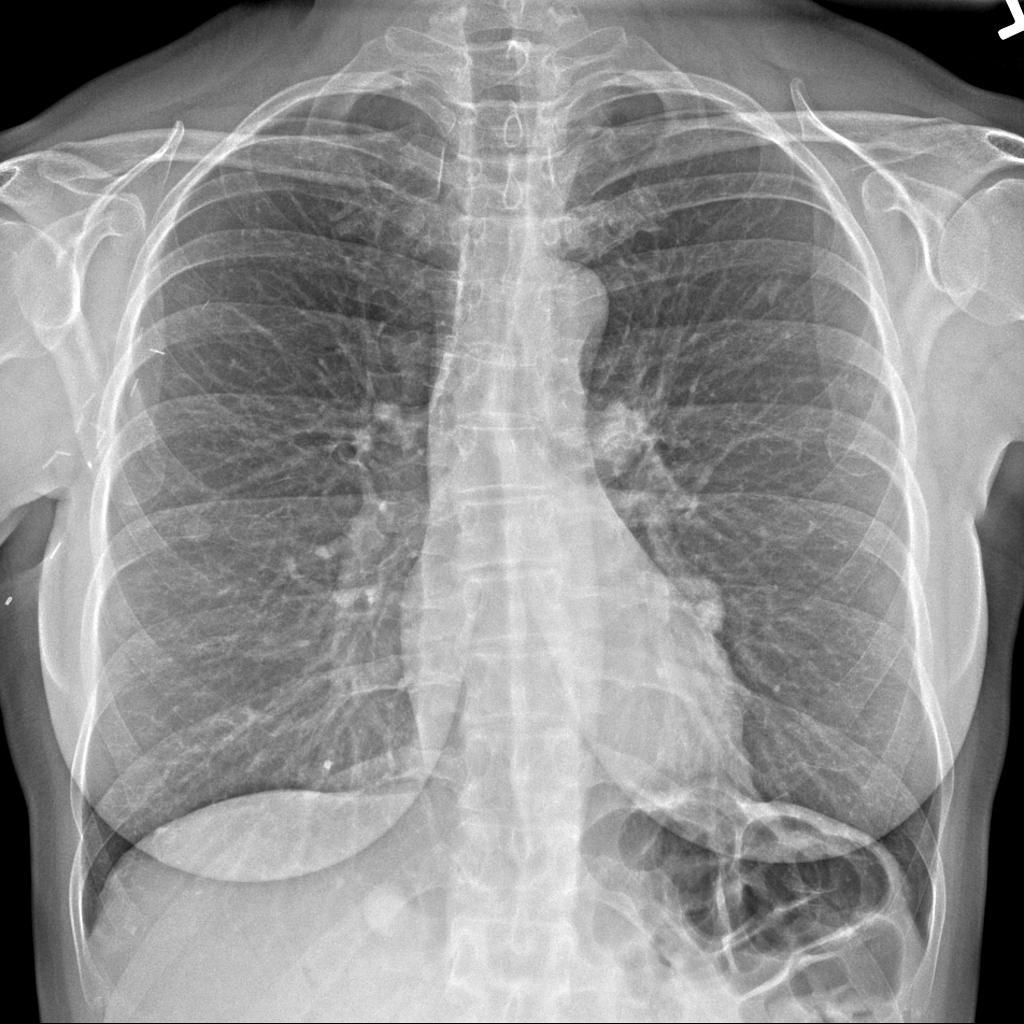Nodule: (352, 874, 422, 944), (177, 516, 223, 555)
